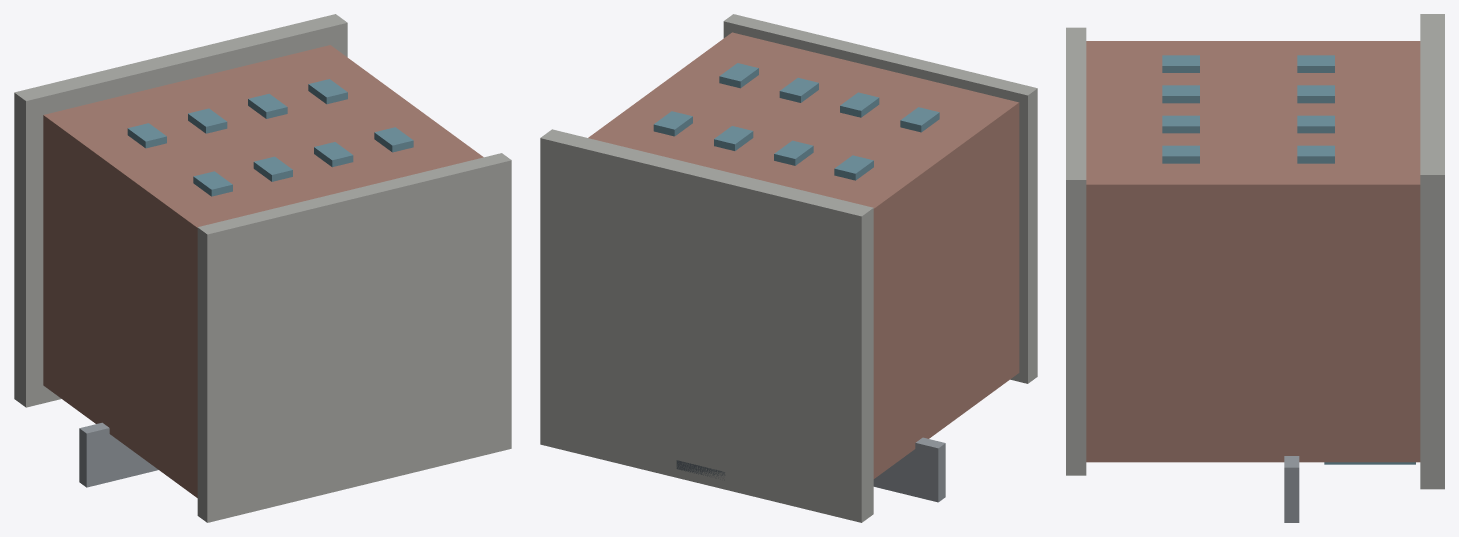
Rendered from AGE_IV_commercial.glb.
The picture shows the model from 3 angles, left to right: view 1: azimuth 30°, elevation 25°; view 2: azimuth 150°, elevation 25°; view 3: azimuth 270°, elevation 25°; orthographic projection. The views are drawn at different scales.
Parts seen in each view (by area): view 1: world; view 2: world; view 3: world.
Boxes of the visible parts, x1,y1,x2,y2 form: world: (14,14,511,522); world: (540,14,1037,522); world: (1066,14,1444,522).
Size of the model in its own units: 5.8 by 5.6 by 5.57.
